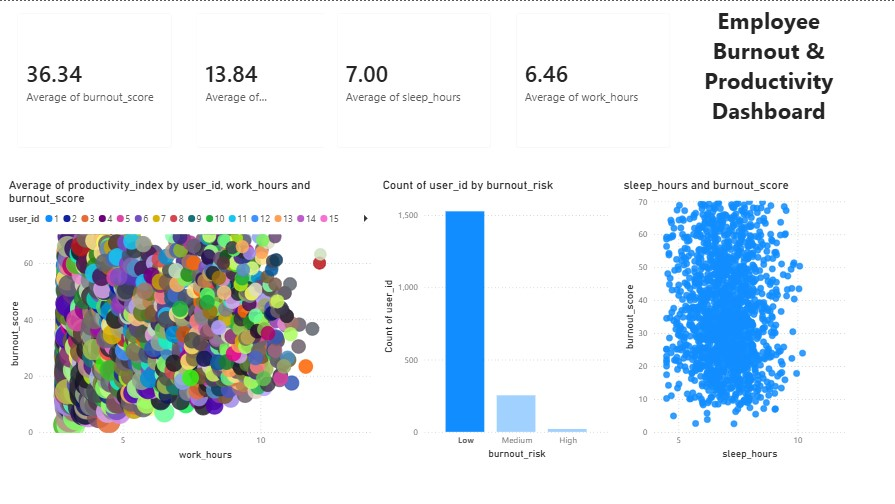

This screenshot's page, from the dashboard's own definition file:
{"tool":"powerbi","page":{"name":"Page 1","canvas":[1280,720],"ordinal":0},"visuals":[{"type":"cardVisual","fields":{"Data":["Avg(burnout_dashboard_data.burnout_score)"]},"box":[10.9,0,254.5,226.2],"z":0},{"type":"cardVisual","fields":{"Data":["Avg(burnout_dashboard_data.productivity_index)"]},"box":[265.4,0,254.5,226.2],"z":1},{"type":"cardVisual","fields":{"Data":["Avg(burnout_dashboard_data.sleep_hours)"]},"box":[465.5,0,254.5,226.2],"z":2},{"type":"cardVisual","fields":{"Data":["Avg(burnout_dashboard_data.work_hours)"]},"box":[720,0,254.5,226.2],"z":3},{"type":"scatterChart","fields":{"X":["burnout_dashboard_data.work_hours"],"Y":["burnout_dashboard_data.burnout_score"],"Size":["Avg(burnout_dashboard_data.productivity_index)"],"Series":["burnout_dashboard_data.user_id"]},"box":[10.9,252.3,532.9,406.8],"z":4},{"type":"clusteredColumnChart","fields":{"Category":["burnout_dashboard_data.burnout_risk"],"Y":["CountNonNull(burnout_dashboard_data.user_id)"]},"box":[543.8,252.3,332.8,406.8],"z":5},{"type":"scatterChart","fields":{"X":["burnout_dashboard_data.sleep_hours"],"Y":["burnout_dashboard_data.burnout_score"]},"box":[887,252,333,407],"z":6},{"type":"textbox","box":[975,0,245,226],"z":7}]}

Visuals, with their boxes in screenshot pixels (x1, y1, x2, y2), scaled from the page's 1280x720 canvas onto the 895x504 screenshot:
cardVisual - Avg(burnout_dashboard_data.burnout_score): {"x1": 8, "y1": 0, "x2": 186, "y2": 158}
cardVisual - Avg(burnout_dashboard_data.productivity_index): {"x1": 186, "y1": 0, "x2": 364, "y2": 158}
cardVisual - Avg(burnout_dashboard_data.sleep_hours): {"x1": 325, "y1": 0, "x2": 503, "y2": 158}
cardVisual - Avg(burnout_dashboard_data.work_hours): {"x1": 503, "y1": 0, "x2": 681, "y2": 158}
scatterChart - burnout_dashboard_data.work_hours x burnout_dashboard_data.burnout_score: {"x1": 8, "y1": 177, "x2": 380, "y2": 461}
clusteredColumnChart - burnout_dashboard_data.burnout_risk x CountNonNull(burnout_dashboard_data.user_id): {"x1": 380, "y1": 177, "x2": 613, "y2": 461}
scatterChart - burnout_dashboard_data.sleep_hours x burnout_dashboard_data.burnout_score: {"x1": 620, "y1": 176, "x2": 853, "y2": 461}
textbox: {"x1": 682, "y1": 0, "x2": 853, "y2": 158}
